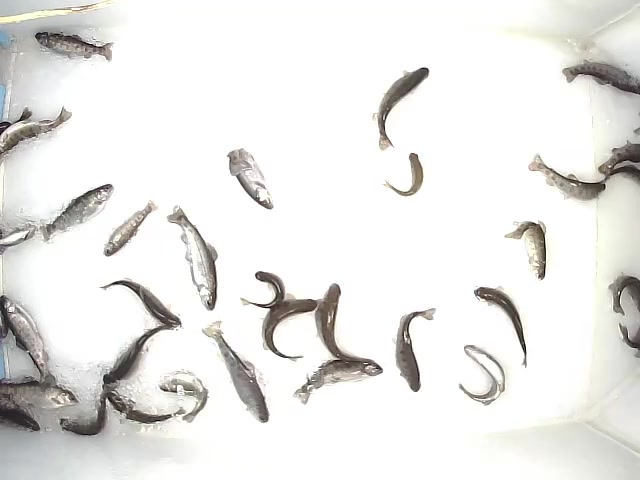fish: (201, 319, 268, 424), (165, 202, 218, 311), (1, 290, 59, 388), (370, 64, 431, 153), (311, 281, 377, 363), (101, 319, 180, 386), (386, 304, 442, 394), (472, 283, 531, 367), (290, 355, 385, 406), (37, 183, 114, 245), (100, 276, 186, 325), (527, 152, 609, 201), (261, 294, 320, 362), (100, 196, 158, 258), (106, 389, 189, 432), (455, 343, 507, 406), (502, 217, 550, 283), (29, 28, 116, 64), (158, 369, 212, 424), (227, 147, 271, 211), (59, 387, 108, 437), (237, 266, 286, 309), (383, 151, 427, 197)
